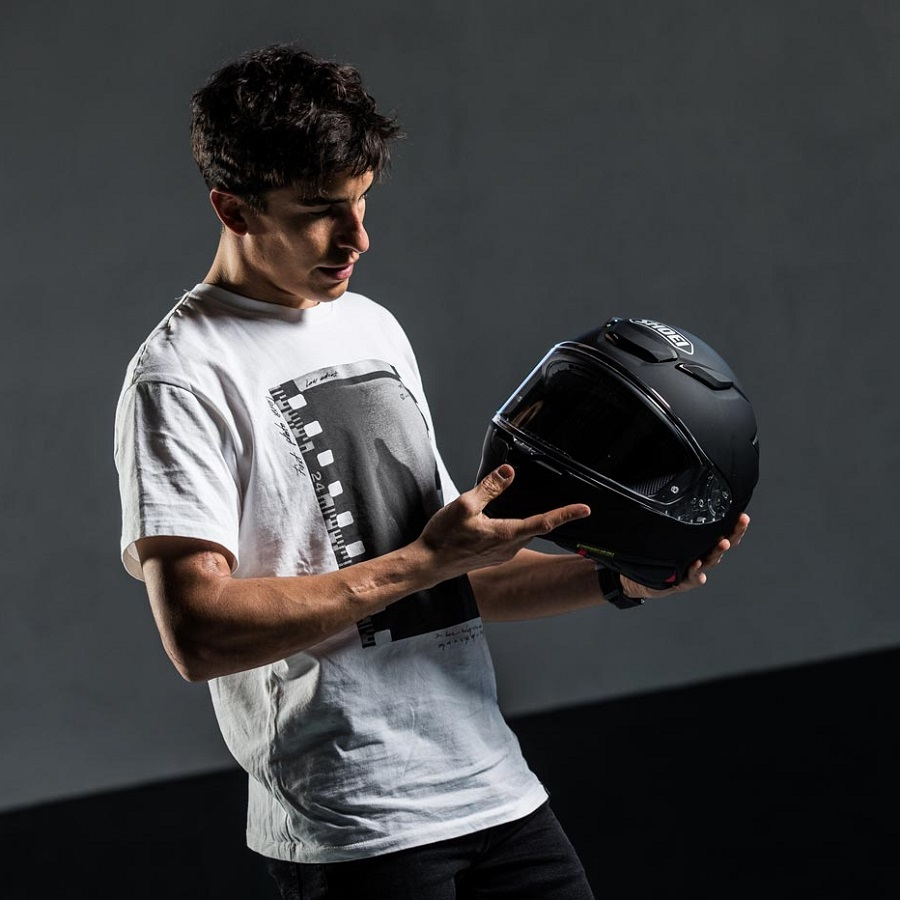helmets: (454, 294, 769, 638)
